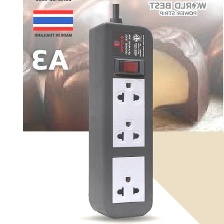three_eye_plug: (85, 17, 157, 222)
